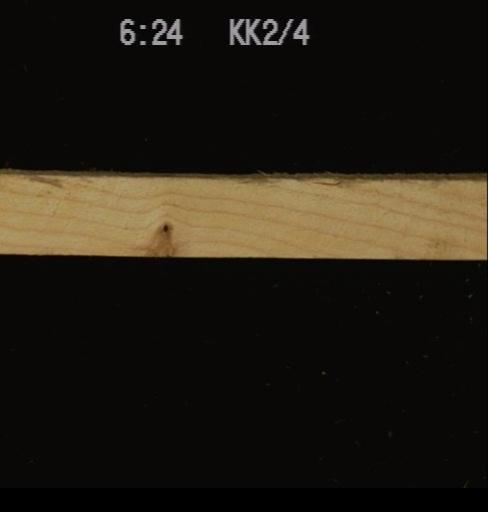small_knot: (160, 221, 170, 234)
split: (308, 177, 342, 188)
